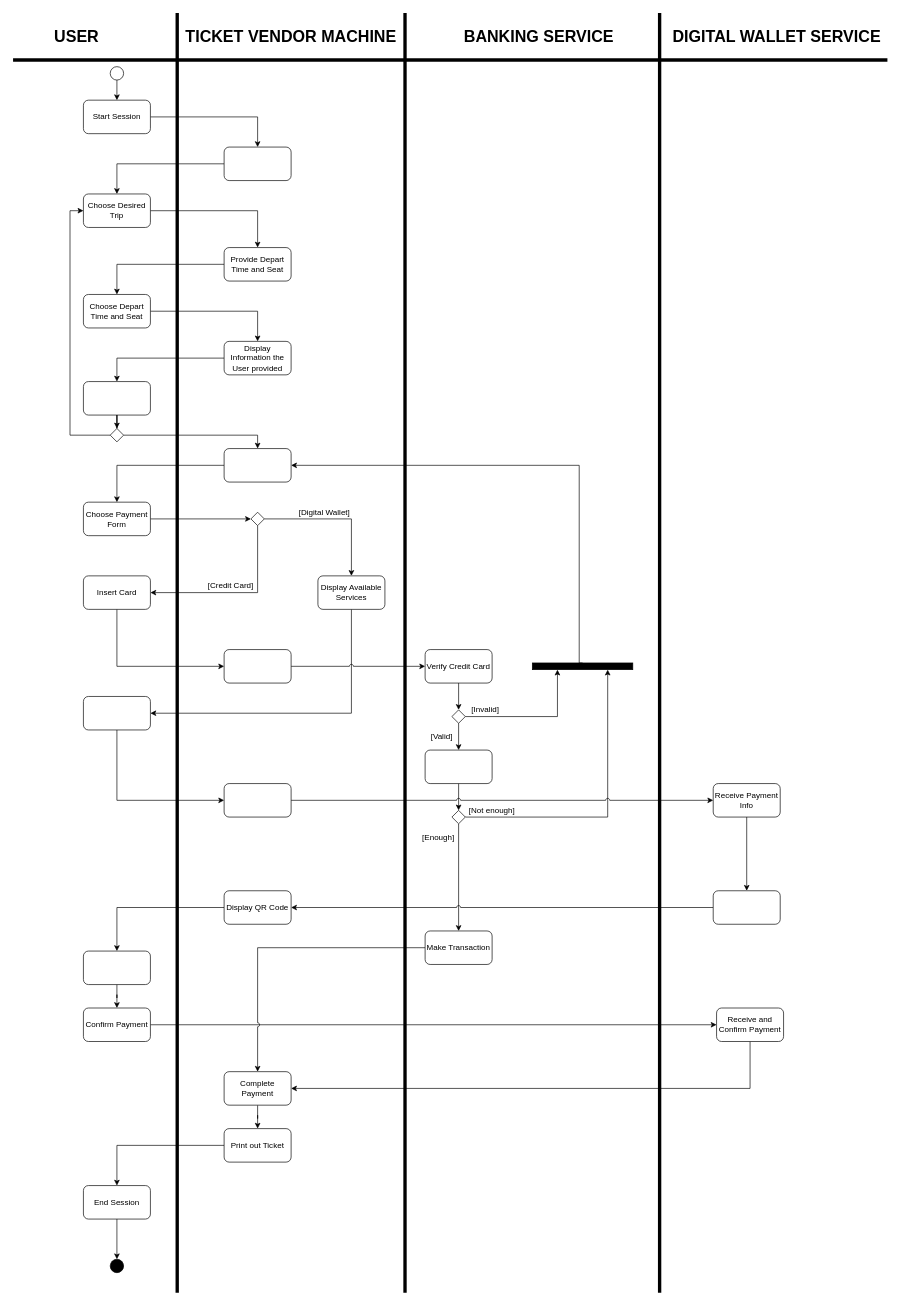
The diagram is 901 pixels wide and 1307 high, and some of its shapes have lost their labels. Each missing label, with the centre of its shape:
Choose Service: the point at 116,713
Generate QR Code: the point at 746,907
Proceed Credit Card Payment: the point at 257,666
Proceed Digital Wallet Payment: the point at 257,800
Provide Payment Form: the point at 257,465
Provide Trips: the point at 257,163
Scan QR Code: the point at 116,967
Verify Balance: the point at 458,766
Verify the Inputted Information: the point at 116,398
